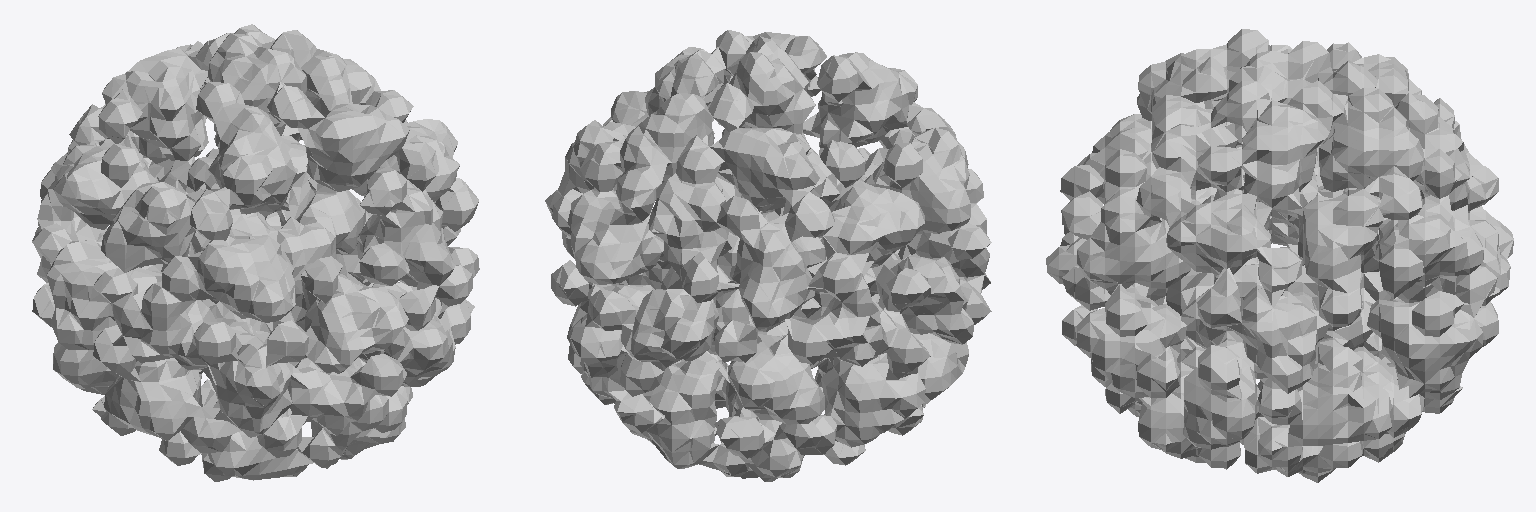
The model's file is pdh_biomt_cms.obj.
3 views of the same model, side by side, from view 1: azimuth 30°, elevation 25°; view 2: azimuth 150°, elevation 25°; view 3: azimuth 270°, elevation 25° (orthographic).
Size of the model in its own units: 469 by 469 by 469.